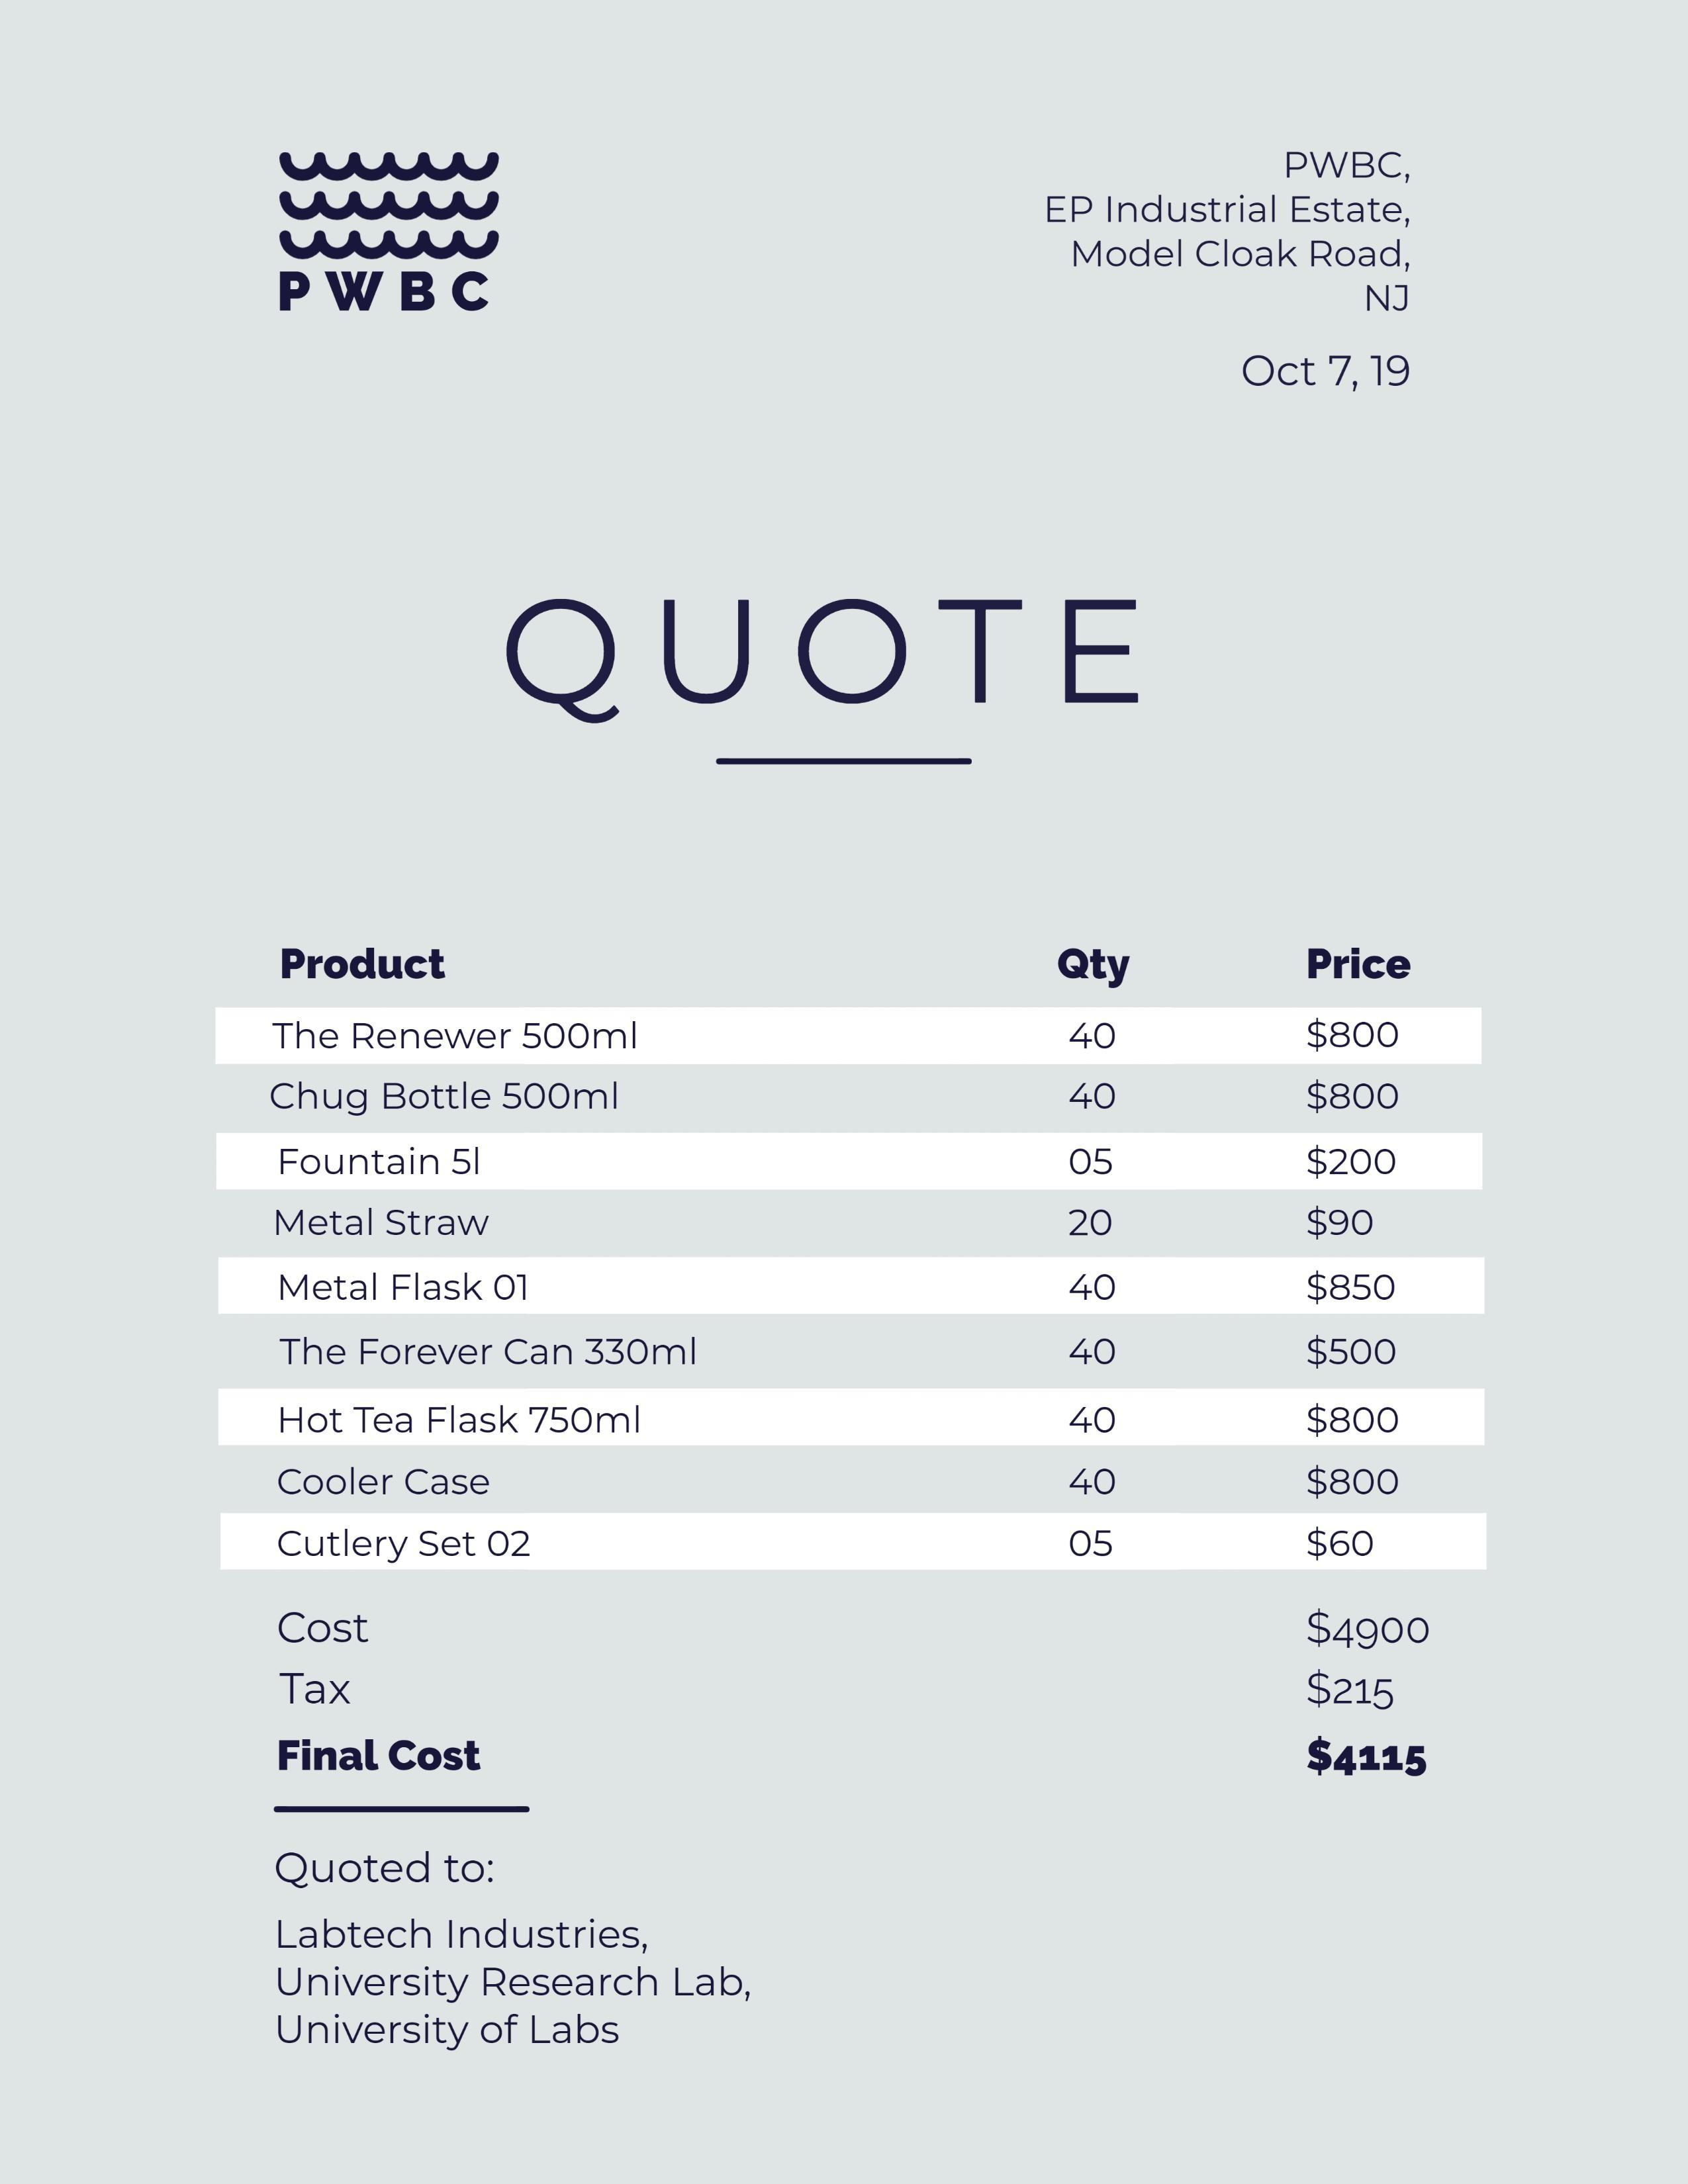ROI: (209, 927, 1479, 1562), (261, 1601, 1479, 1798), (264, 1847, 784, 2092), (1009, 136, 1427, 409)
